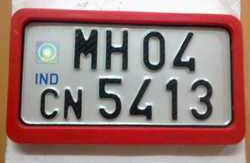doublelinenumberplate: (18, 18, 234, 129)
